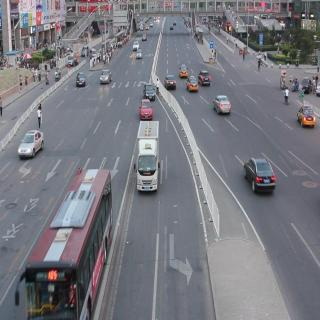BigCar: (33, 157, 110, 320), (134, 118, 166, 193)
Car: (244, 156, 276, 194), (18, 124, 44, 166), (298, 100, 319, 129), (214, 91, 233, 118), (196, 71, 214, 90), (76, 66, 88, 89), (301, 73, 313, 95), (143, 79, 156, 99), (162, 73, 178, 89), (98, 69, 114, 84), (138, 100, 152, 117), (187, 76, 200, 94), (177, 62, 191, 78), (66, 53, 76, 68), (140, 32, 149, 46), (130, 41, 141, 51), (82, 44, 89, 57), (136, 48, 143, 59)
